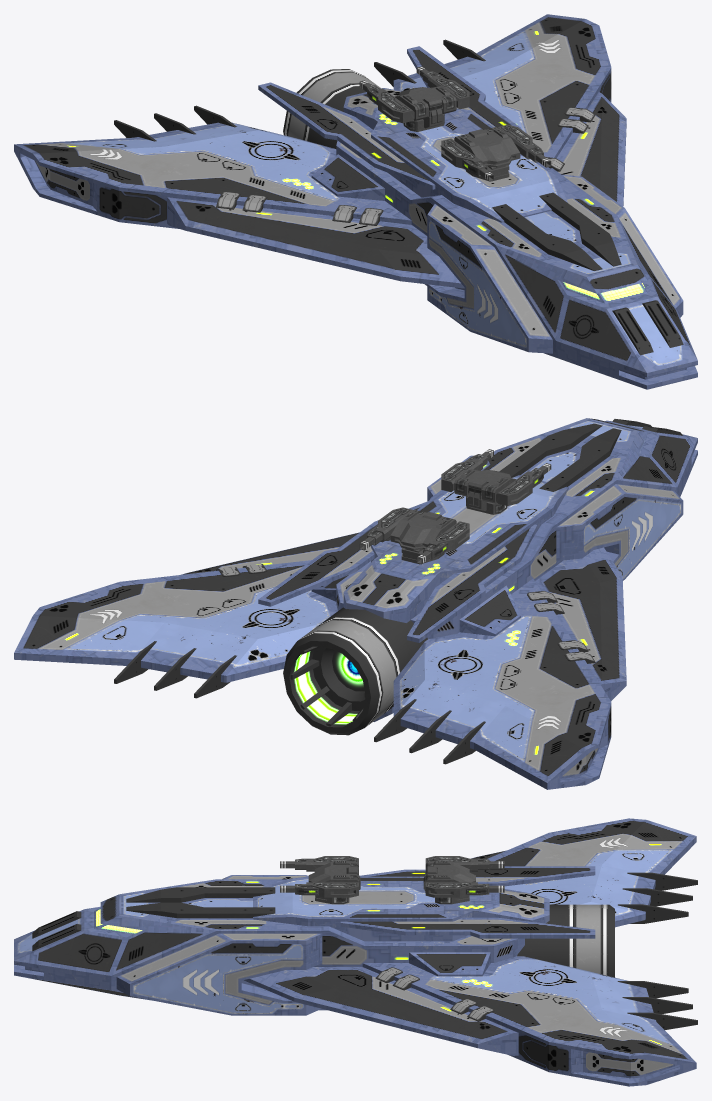
3 views of the same model, one above another, from view 1: azimuth 30°, elevation 25°; view 2: azimuth 150°, elevation 25°; view 3: azimuth 270°, elevation 25° (orthographic). The views are drawn at different scales.
Visible parts, largest first — view 1: EnkarRepublicFrigateMenharsPresentation_EnkarRepublicFrigate, EnkarRepublicFrigateMenharsPresentation_EnkarRepublicWeapons; view 2: EnkarRepublicFrigateMenharsPresentation_EnkarRepublicFrigate, EnkarRepublicFrigateMenharsPresentation_EnkarRepublicWeapons; view 3: EnkarRepublicFrigateMenharsPresentation_EnkarRepublicFrigate, EnkarRepublicFrigateMenharsPresentation_EnkarRepublicWeapons.
Part boxes in pixels (bbox=[...]): EnkarRepublicFrigateMenharsPresentation_EnkarRepublicFrigate: bbox=[14, 14, 697, 389]; EnkarRepublicFrigateMenharsPresentation_EnkarRepublicWeapons: bbox=[359, 66, 551, 181]; EnkarRepublicFrigateMenharsPresentation_EnkarRepublicFrigate: bbox=[14, 418, 697, 789]; EnkarRepublicFrigateMenharsPresentation_EnkarRepublicWeapons: bbox=[359, 449, 551, 564]; EnkarRepublicFrigateMenharsPresentation_EnkarRepublicFrigate: bbox=[14, 818, 697, 1086]; EnkarRepublicFrigateMenharsPresentation_EnkarRepublicWeapons: bbox=[280, 856, 504, 904].
Bounding box in the file's own units: 2625 × 670 × 3190.
Materials: 2 (2 with a texture image).
